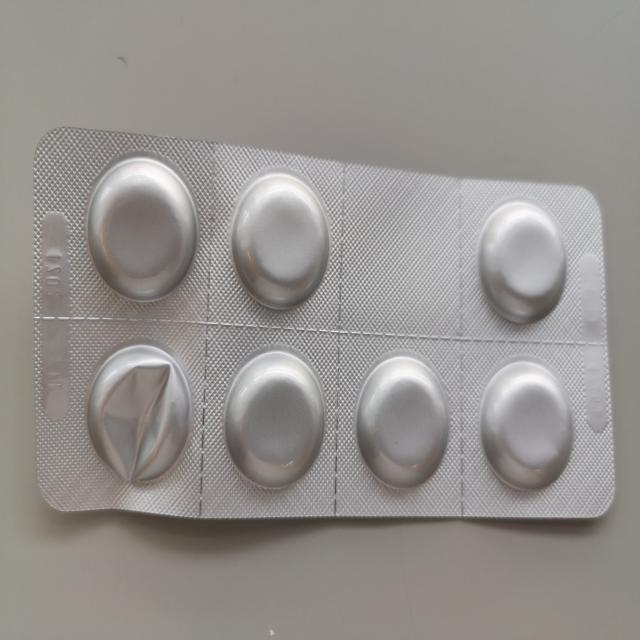Empty: (84, 338, 192, 488)
Pill: (82, 148, 204, 306), (221, 342, 329, 496), (228, 166, 334, 315), (352, 346, 452, 495), (476, 355, 576, 497), (473, 196, 572, 331)
